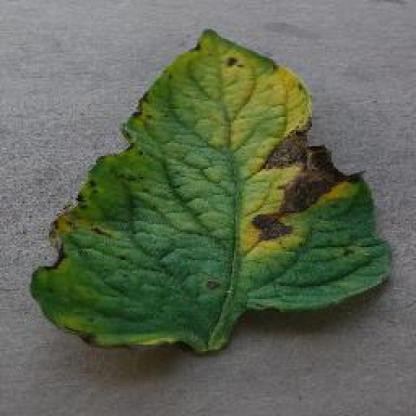Tomato_Blight: (28, 31, 392, 352)
